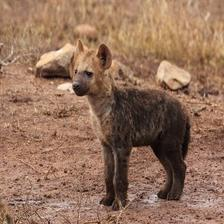hyena: (65, 36, 201, 210)
